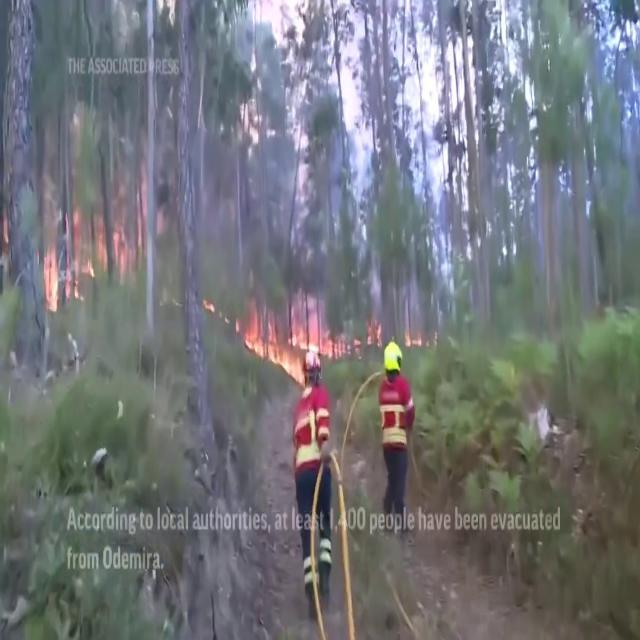Fire: (240, 291, 332, 382), (42, 238, 61, 317)
